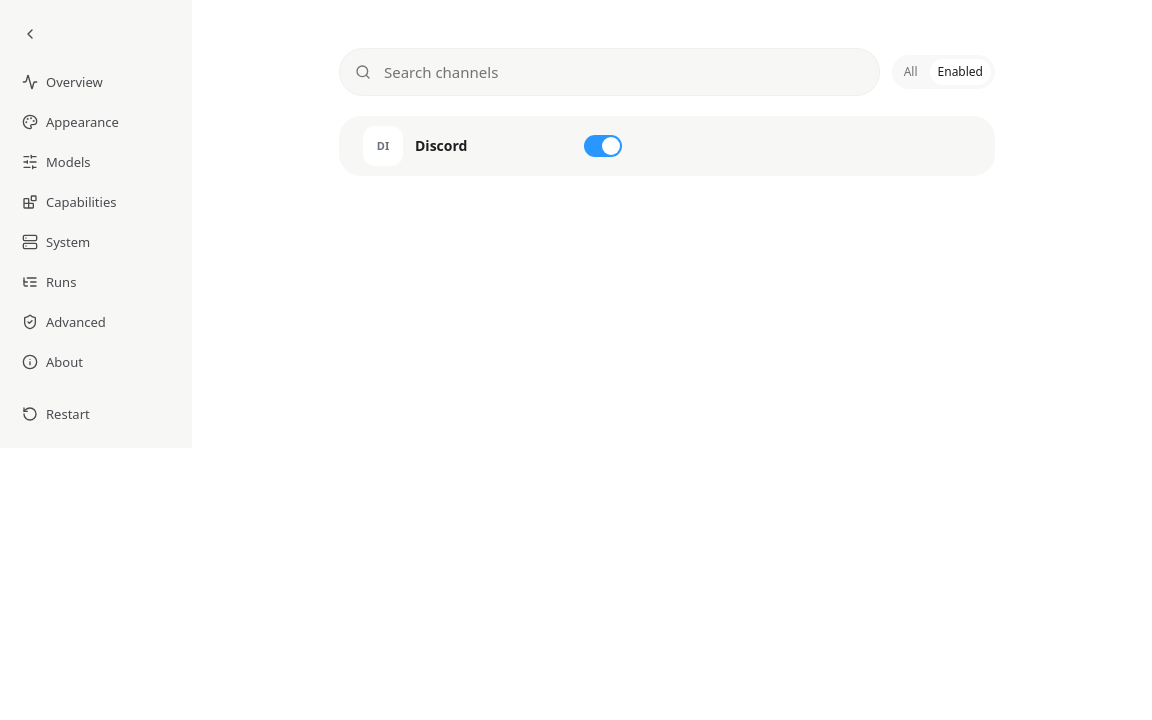
Scenario: Settings channels › reveals Discord connection checks before confirming the identity
This screenshot has width=1152, height=720.
Click the button with aria-label "View Discord settings" at (461, 146), box [363,126,559,166]
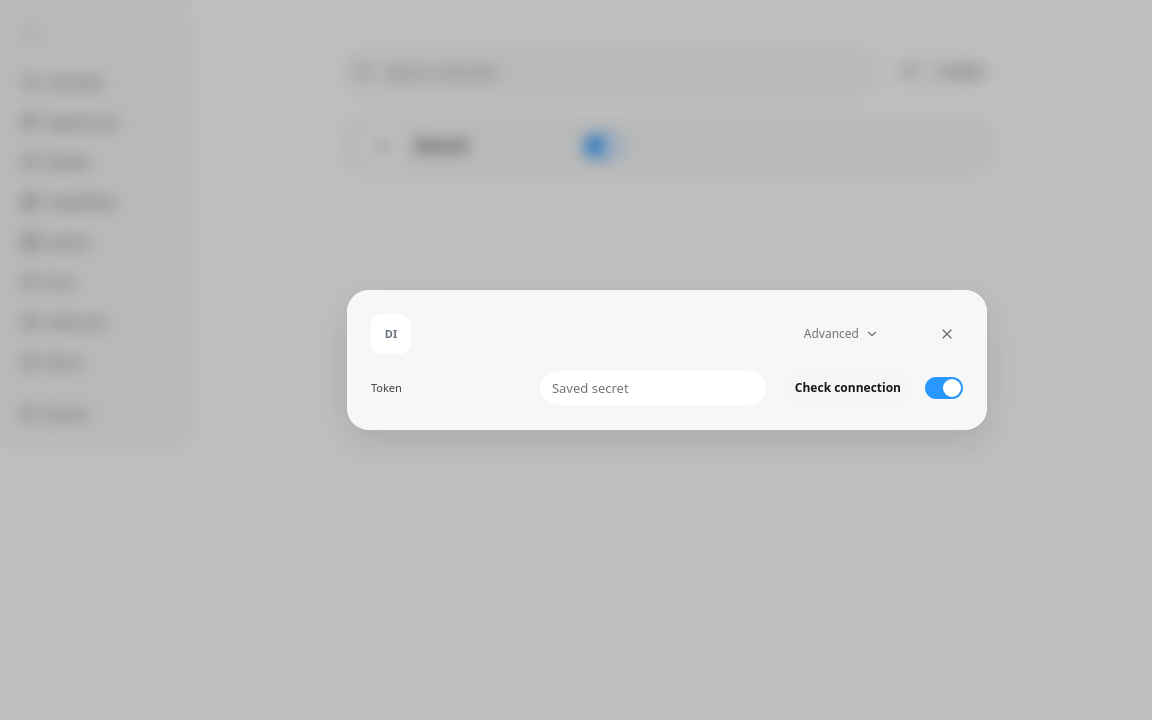
Click the button "Check connection" at (848, 388), box [783,370,913,406]
Wait 520 ms
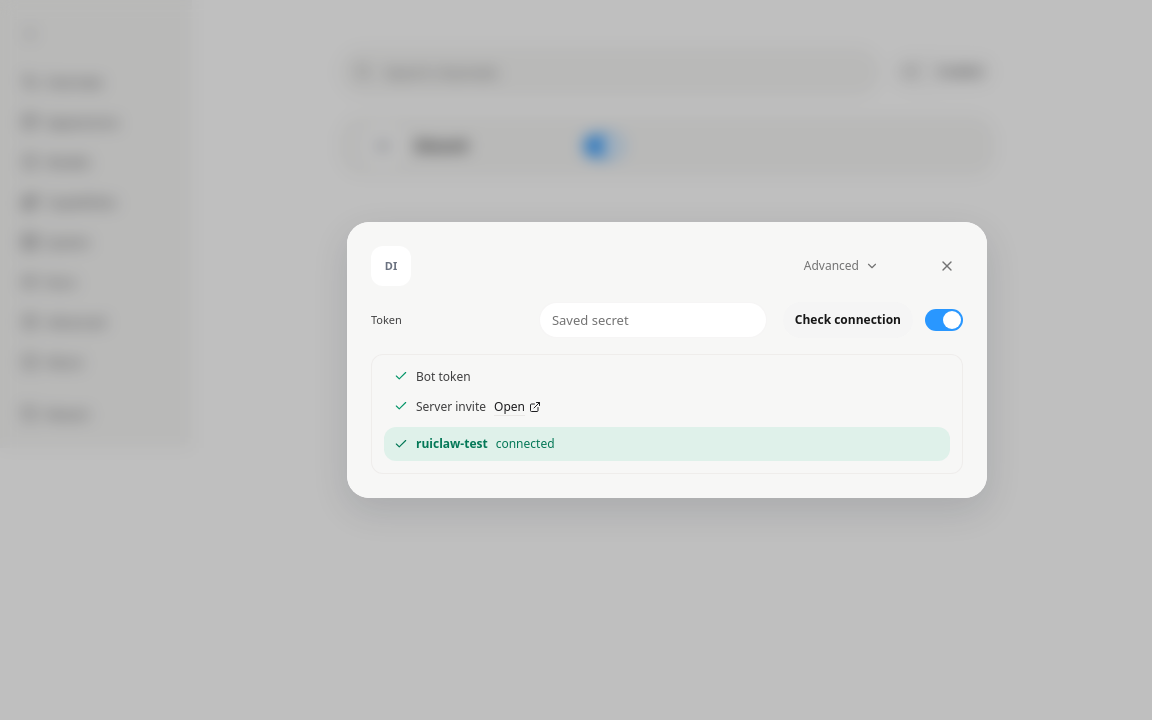
Expected: the message "Bot token Server invite Open ruiclaw-test Connected" is shown, [371,354,963,474]
Expected: the text "Bot token" is shown, [416,367,471,387]
Expected: the text "Server invite" is shown, [416,397,486,417]
